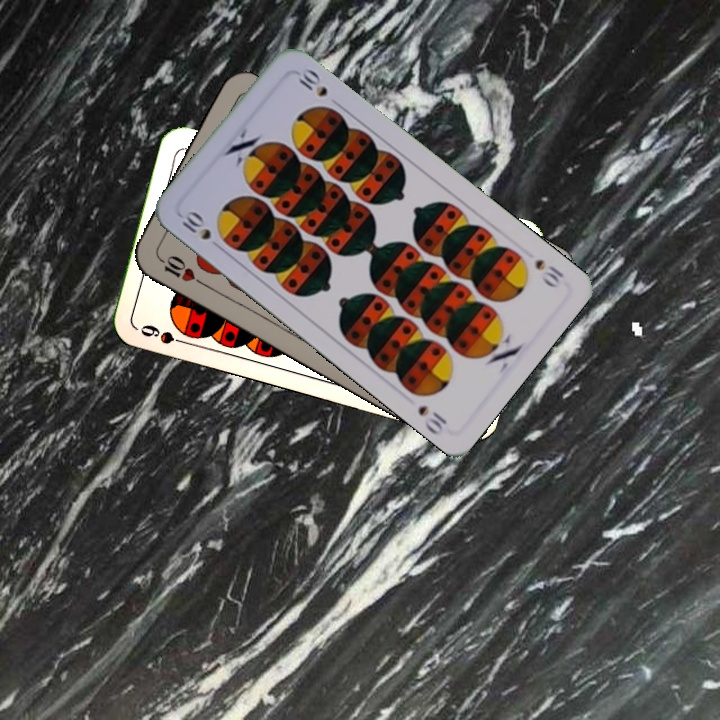H10: (154, 251, 207, 288)
S10: (176, 206, 214, 243), (530, 255, 567, 291)
S9: (133, 320, 193, 348)
